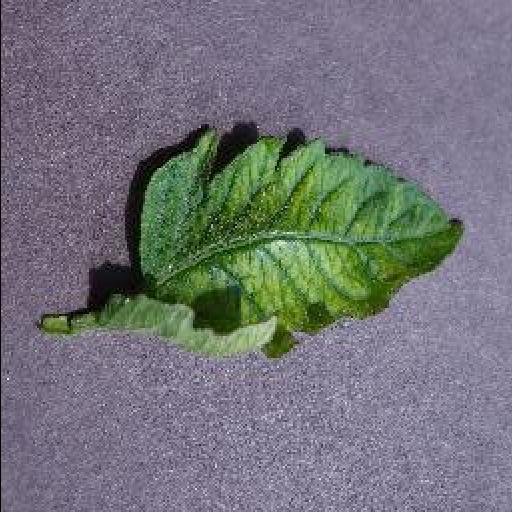disease_tomato: (134, 122, 466, 364)
